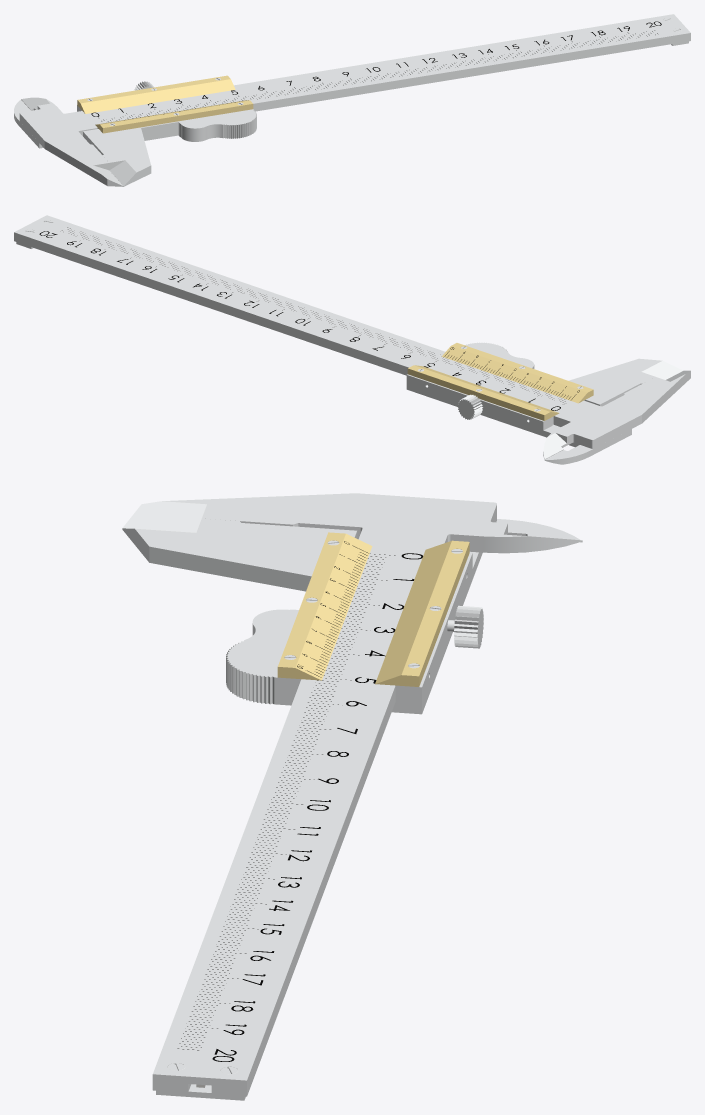
File: vernier-caliper.glb
The picture shows the model from 3 angles, top to bottom: view 1: azimuth 30°, elevation 25°; view 2: azimuth 150°, elevation 25°; view 3: azimuth 270°, elevation 25°; orthographic projection. The views are drawn at different scales.
Visible parts, largest first — view 1: MAIN SCALE-1, VERNIER SCALE-1, SLIDER-1, FINGER HOOK-1, SLIDER 2-1; view 2: MAIN SCALE-1, VERNIER SCALE-1, SLIDER 2-1, SLIDER-1, FINGER HOOK-1, LOCK SCREW-1; view 3: MAIN SCALE-1, VERNIER SCALE-1, SLIDER 2-1, SLIDER-1, FINGER HOOK-1, LOCK SCREW-1.
Part boxes in pixels (x1,y1,x2,y2): MAIN SCALE-1: (19,14,690,186); VERNIER SCALE-1: (14,100,253,186); SLIDER-1: (77,75,235,113); FINGER HOOK-1: (178,110,256,141); SLIDER 2-1: (95,100,253,133); MAIN SCALE-1: (14,215,690,459); VERNIER SCALE-1: (406,358,683,464); SLIDER 2-1: (442,343,593,403); SLIDER-1: (407,365,559,420); FINGER HOOK-1: (464,342,534,368); LOCK SCREW-1: (458,394,482,419); MAIN SCALE-1: (122,493,582,1096); VERNIER SCALE-1: (122,518,582,714); SLIDER 2-1: (277,532,372,680); SLIDER-1: (375,540,469,686); FINGER HOOK-1: (226,609,298,704); LOCK SCREW-1: (447,605,483,648).
Bounding box in the file's own units: 0.233 × 0.007 × 0.0772.
